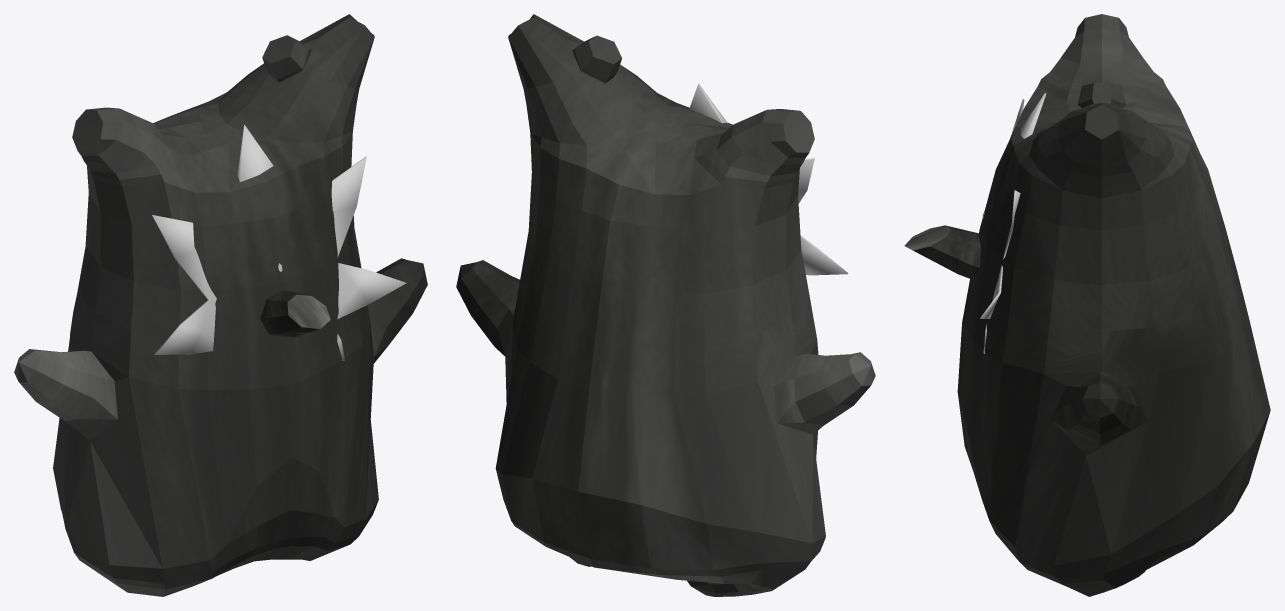
Rendered from frame_0047.obj.
The picture shows the model from 3 angles, left to right: view 1: azimuth 30°, elevation 25°; view 2: azimuth 150°, elevation 25°; view 3: azimuth 270°, elevation 25°; orthographic projection. The views are drawn at different scales.
Parts seen in each view (by area): view 1: korok, leaf, nose.003_柱体.011; view 2: korok, leaf; view 3: korok, nose.003_柱体.011, leaf.
Part boxes in pixels (bbox=[...]): korok: bbox=[14, 14, 427, 596]; leaf: bbox=[151, 125, 406, 361]; nose.003_柱体.011: bbox=[260, 290, 330, 337]; korok: bbox=[456, 14, 875, 596]; leaf: bbox=[689, 83, 848, 275]; korok: bbox=[957, 14, 1270, 596]; nose.003_柱体.011: bbox=[904, 225, 980, 280]; leaf: bbox=[980, 93, 1046, 353].
Size of the model in its own units: 1.69 by 2.08 by 1.35.
